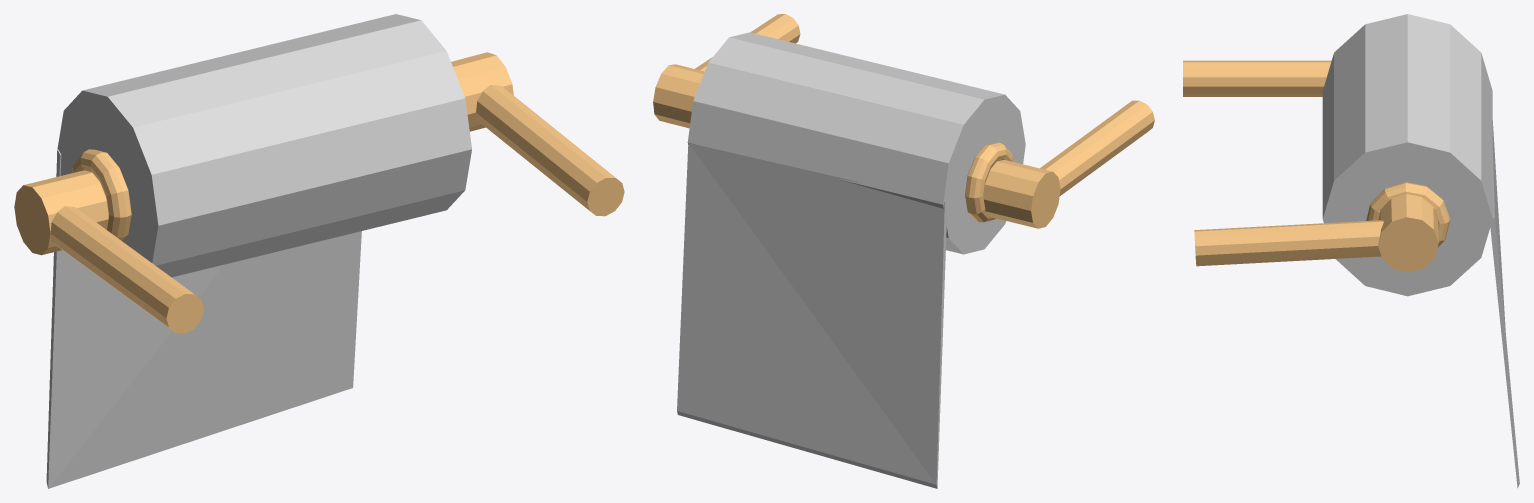
3 renders of one model, left to right at view 1: azimuth 30°, elevation 25°; view 2: azimuth 150°, elevation 25°; view 3: azimuth 270°, elevation 25°, orthographic. The views are drawn at different scales.
Parts seen in each view (by area): view 1: mesh_24771696, group_1730847945, group_479305224, mesh_1556431417, mesh_1409475458; view 2: group_1730847945, mesh_24771696, group_479305224, mesh_1409475458, mesh_1556431417; view 3: mesh_24771696, mesh_1556431417, group_479305224, mesh_1409475458, group_1730847945, mesh_1296031514.
Part boxes in pixels (x1,y1,x2,y2): mesh_24771696: [57, 14, 471, 277]; group_1730847945: [46, 149, 361, 488]; group_479305224: [14, 149, 203, 333]; mesh_1556431417: [476, 85, 624, 216]; mesh_1409475458: [451, 52, 513, 131]; group_1730847945: [677, 143, 947, 488]; mesh_24771696: [687, 32, 1025, 254]; group_479305224: [965, 100, 1154, 228]; mesh_1409475458: [653, 64, 704, 128]; mesh_1556431417: [695, 14, 800, 71]; mesh_24771696: [1322, 14, 1492, 296]; mesh_1556431417: [1194, 220, 1383, 266]; group_479305224: [1183, 60, 1331, 96]; mesh_1409475458: [1378, 194, 1438, 272]; group_1730847945: [1490, 120, 1519, 488]; mesh_1296031514: [1366, 182, 1450, 246].
Bounding box in the file's own units: 37.11 × 33.12 × 27.74.
